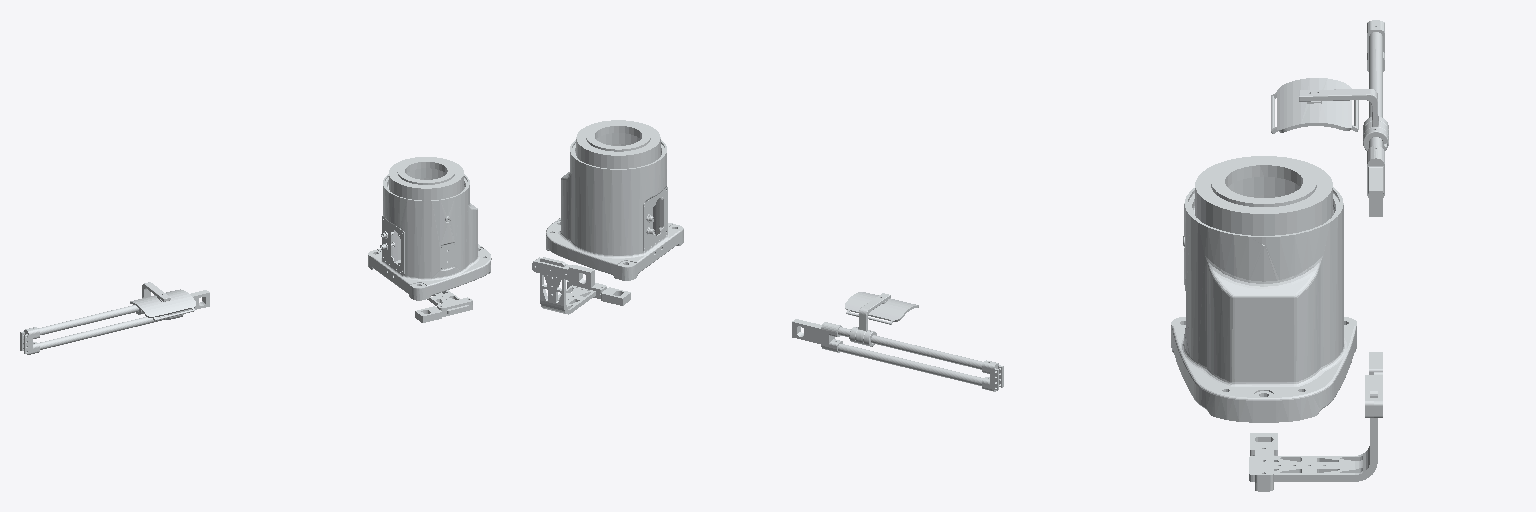
robot.urdf — exo:
<?xml version="1.0" encoding="utf-8"?>
<!-- This URDF was automatically created by SolidWorks to URDF Exporter! Originally created by [author] ([email redacted]) 
     Commit Version: 1.6.0-4-g7f85cfe  Build Version: 1.6.7995.38578
     For more information, please see http://wiki.ros.org/sw_urdf_exporter -->
<robot
  name="exo">
  <link
    name="base_link">
    <inertial>
      <origin
        xyz="0.0034138 -0.1254 -0.1285"
        rpy="0 0 0" />
      <mass
        value="3.6015" />
      <inertia
        ixx="0.0035299"
        ixy="-1.1671E-06"
        ixz="9.82E-06"
        iyy="0.0028399"
        iyz="-4.1754E-08"
        izz="0.0061042" />
    </inertial>
    <visual>
      <origin
        xyz="0 0 0"
        rpy="0 0 0" />
      <geometry>
        <mesh
          filename="package://exo/meshes/base_link.STL" />
      </geometry>
      <material
        name="">
        <color
          rgba="0.89804 0.91765 0.92941 1" />
      </material>
    </visual>
    <collision>
      <origin
        xyz="0 0 0"
        rpy="0 0 0" />
      <geometry>
        <mesh
          filename="package://exo/meshes/base_link.STL" />
      </geometry>
    </collision>
  </link>
  <link
    name="R_hip_ab_Link">
    <inertial>
      <origin
        xyz="0.062961 0.084633 -0.065069"
        rpy="0 0 0" />
      <mass
        value="0.70297" />
      <inertia
        ixx="0.0015946"
        ixy="-9.7055E-06"
        ixz="9.7056E-06"
        iyy="0.0011657"
        iyz="-0.00045578"
        izz="0.0016625" />
    </inertial>
    <visual>
      <origin
        xyz="0 0 0"
        rpy="0 0 0" />
      <geometry>
        <mesh
          filename="package://exo/meshes/R_hip_ab_Link.STL" />
      </geometry>
      <material
        name="">
        <color
          rgba="0.89804 0.91765 0.92941 1" />
      </material>
    </visual>
    <collision>
      <origin
        xyz="0 0 0"
        rpy="0 0 0" />
      <geometry>
        <mesh
          filename="package://exo/meshes/R_hip_ab_Link.STL" />
      </geometry>
    </collision>
  </link>
  <joint
    name="R_hip_ab"
    type="revolute">
    <origin
      xyz="0 0 0"
      rpy="0 0 0" />
    <parent
      link="base_link" />
    <child
      link="R_hip_ab_Link" />
    <axis
      xyz="0 0 1" />
    <limit
      lower="0"
      upper="0"
      effort="0"
      velocity="0" />
  </joint>
  <link
    name="R_hip_flex_link">
    <inertial>
      <origin
        xyz="-0.25942 0.0061337 -0.048518"
        rpy="0 0 0" />
      <mass
        value="3.3538" />
      <inertia
        ixx="0.0027427"
        ixy="-5.5939E-07"
        ixz="-1.307E-07"
        iyy="0.0040281"
        iyz="-6.4922E-05"
        izz="0.0059218" />
    </inertial>
    <visual>
      <origin
        xyz="0 0 0"
        rpy="0 0 0" />
      <geometry>
        <mesh
          filename="package://exo/meshes/R_hip_flex_link.STL" />
      </geometry>
      <material
        name="">
        <color
          rgba="0.89804 0.91765 0.92941 1" />
      </material>
    </visual>
    <collision>
      <origin
        xyz="0 0 0"
        rpy="0 0 0" />
      <geometry>
        <mesh
          filename="package://exo/meshes/R_hip_flex_link.STL" />
      </geometry>
    </collision>
  </link>
  <joint
    name="R_hip_flex"
    type="revolute">
    <origin
      xyz="0 0.121 0"
      rpy="1.5708 0 0" />
    <parent
      link="R_hip_ab_Link" />
    <child
      link="R_hip_flex_link" />
    <axis
      xyz="0 0 1" />
    <limit
      lower="0"
      upper="0"
      effort="0"
      velocity="0" />
  </joint>
  <link
    name="R_knee_link">
    <inertial>
      <origin
        xyz="-0.17215 0.025186 -0.0014145"
        rpy="0 0 0" />
      <mass
        value="0.75992" />
      <inertia
        ixx="0.00047703"
        ixy="9.6405E-09"
        ixz="-6.3773E-09"
        iyy="0.0023194"
        iyz="-4.8885E-05"
        izz="0.0021608" />
    </inertial>
    <visual>
      <origin
        xyz="0 0 0"
        rpy="0 0 0" />
      <geometry>
        <mesh
          filename="package://exo/meshes/R_knee_link.STL" />
      </geometry>
      <material
        name="">
        <color
          rgba="0.89804 0.91765 0.92941 1" />
      </material>
    </visual>
    <collision>
      <origin
        xyz="0 0 0"
        rpy="0 0 0" />
      <geometry>
        <mesh
          filename="package://exo/meshes/R_knee_link.STL" />
      </geometry>
    </collision>
  </link>
  <joint
    name="R_knee"
    type="revolute">
    <origin
      xyz="-0.543 0 0"
      rpy="0 0 0" />
    <parent
      link="R_hip_flex_link" />
    <child
      link="R_knee_link" />
    <axis
      xyz="0 0 1" />
    <limit
      lower="0"
      upper="0"
      effort="0"
      velocity="0" />
  </joint>
</robot>

--- Facts derived from the render (not from the file) ---
Views: 3 orthographic renders of the robot side by side, from view 1: azimuth 30°, elevation 25°; view 2: azimuth 150°, elevation 25°; view 3: azimuth 270°, elevation 25°.
Model exo with 4 links and 3 joints (3 revolute), rooted at base_link, posed all joints at 0.
Links seen in each view (by area): view 1: base_link, R_knee_link, R_hip_ab_Link; view 2: base_link, R_knee_link, R_hip_ab_Link; view 3: base_link, R_knee_link, R_hip_ab_Link.
Boxes of the visible links, box(x1,y1,x2,y2) form: base_link: box(368, 157, 491, 300); R_knee_link: box(20, 282, 209, 354); R_hip_ab_Link: box(415, 290, 472, 322); base_link: box(546, 120, 683, 280); R_knee_link: box(792, 292, 1003, 391); R_hip_ab_Link: box(532, 257, 630, 314); base_link: box(1171, 156, 1356, 422); R_knee_link: box(1271, 20, 1388, 216); R_hip_ab_Link: box(1249, 352, 1382, 491).
Size in the robot's own frame: 1.2 by 0.2871 by 0.393 metres.
Meshes: 4 distinct files referenced, 3 mesh visuals loaded (3 binary STL); not drawn: 1 (reference not matched to a file when rendering).